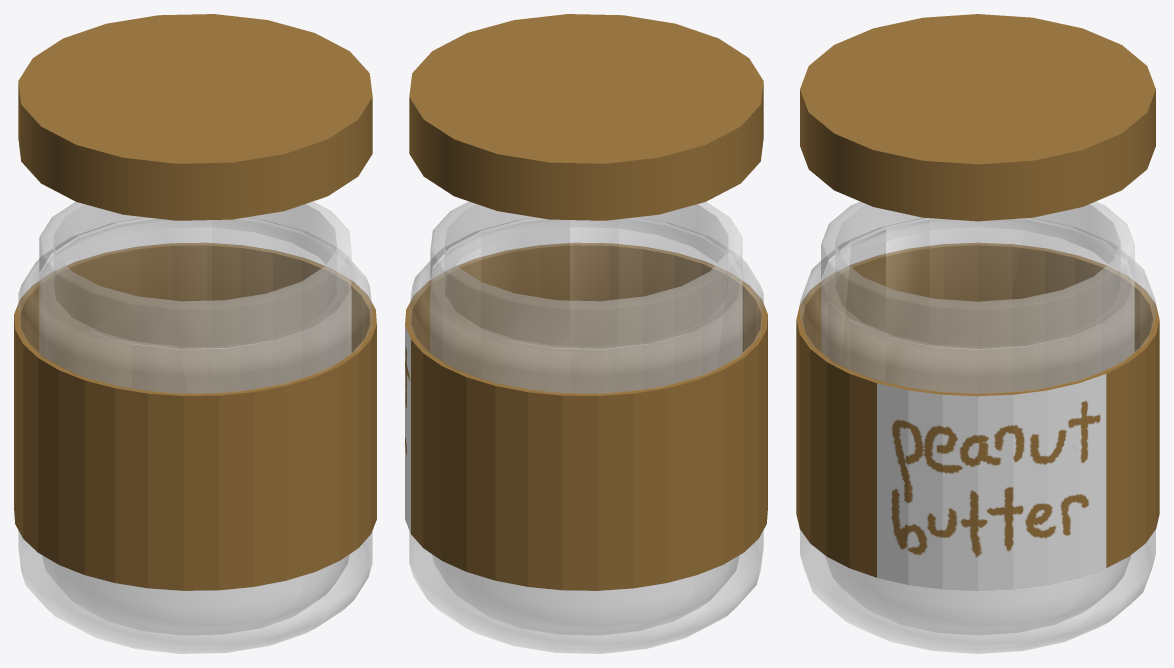
Rendered from peanut butter jar.fbx.
The picture shows the model from 3 angles, left to right: view 1: azimuth 30°, elevation 25°; view 2: azimuth 150°, elevation 25°; view 3: azimuth 270°, elevation 25°; orthographic projection.
Parts seen in each view (by area): view 1: Cylinder, polySurface1, polySurface3; view 2: Cylinder, polySurface1, polySurface3; view 3: Cylinder, polySurface1, polySurface3.
Part boxes in pixels (bbox=[...]): Cylinder: bbox=[14, 242, 376, 590]; polySurface1: bbox=[18, 201, 372, 653]; polySurface3: bbox=[18, 14, 372, 220]; Cylinder: bbox=[405, 242, 767, 590]; polySurface1: bbox=[409, 201, 763, 653]; polySurface3: bbox=[409, 14, 763, 220]; Cylinder: bbox=[796, 242, 1159, 590]; polySurface1: bbox=[800, 201, 1155, 653]; polySurface3: bbox=[800, 14, 1155, 221].
Bounding box in the file's own units: 204 × 314 × 204.
